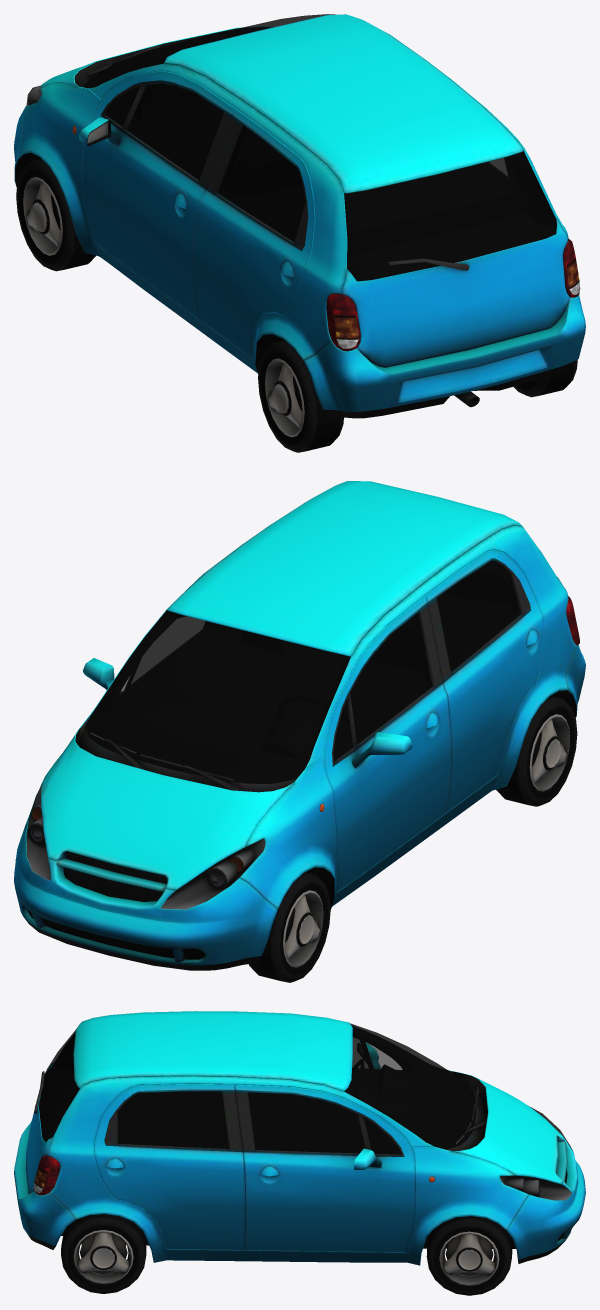
File: c_compact.glb
The picture shows the model from 3 angles, top to bottom: view 1: azimuth 30°, elevation 25°; view 2: azimuth 150°, elevation 25°; view 3: azimuth 270°, elevation 25°; orthographic projection. The views are drawn at different scales.
Parts seen in each view (by area): view 1: body|Body, body|glass, body|Wheel, body|Optics; view 2: body|Body, body|glass, body|Wheel, body|Optics; view 3: body|Body, body|glass, body|Wheel, body|Optics.
Part boxes in pixels (<box>): body|Body: <box>14,14,585,418</box>; body|glass: <box>26,14,556,281</box>; body|Wheel: <box>16,158,577,452</box>; body|Optics: <box>72,125,580,351</box>; body|Body: <box>14,481,585,970</box>; body|glass: <box>26,552,541,909</box>; body|Wheel: <box>248,695,577,982</box>; body|Optics: <box>28,596,579,889</box>; body|Body: <box>14,1011,585,1265</box>; body|glass: <box>39,1023,572,1200</box>; body|Wheel: <box>61,1214,512,1295</box>; body|Optics: <box>34,1114,541,1195</box>.
Size of the model in its own units: 1.61 by 1.32 by 3.26.
4 materials, 3 textured.
